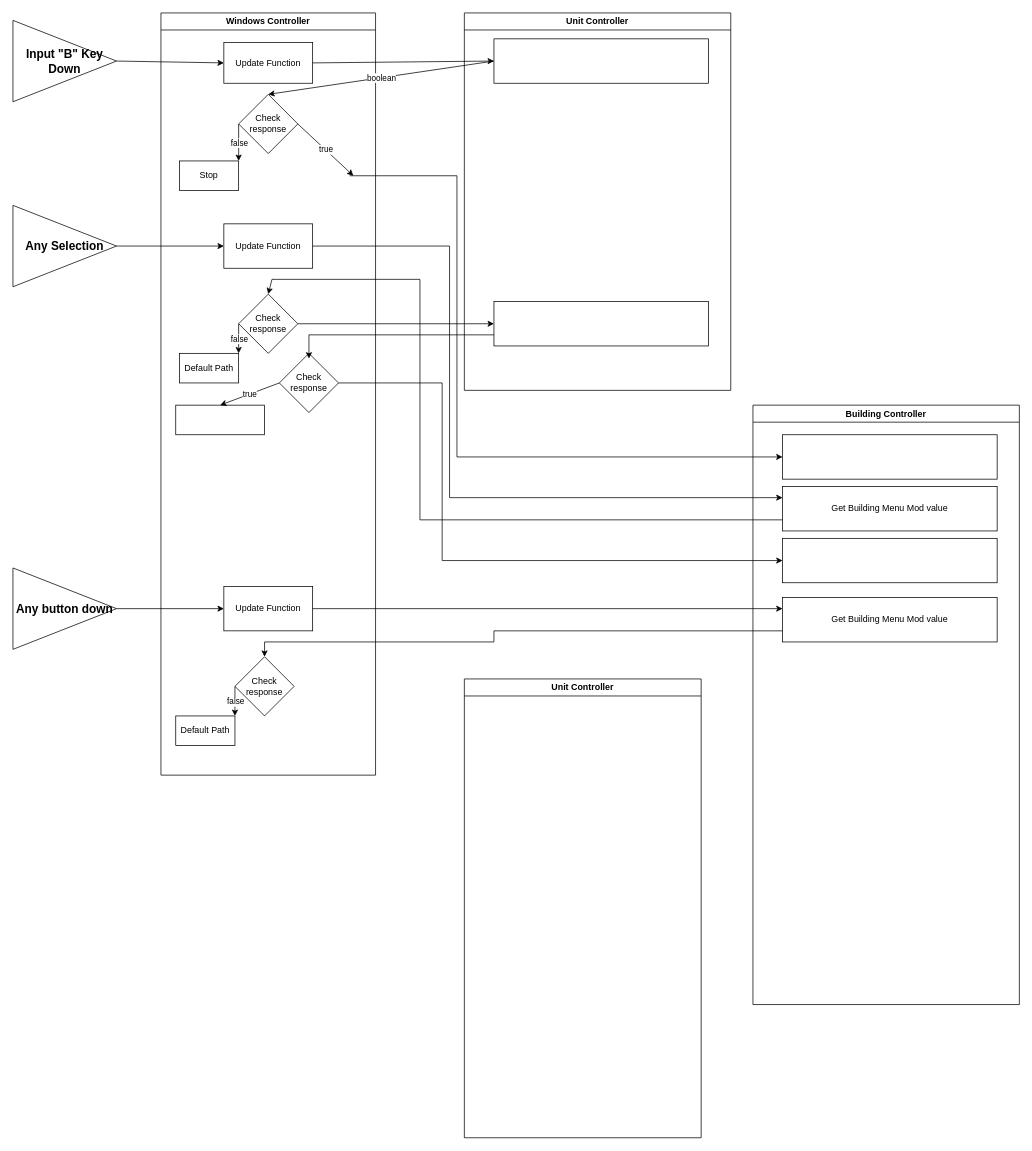
The diagram is 1032 pixels wide and 1151 high, and some of its shapes have lost their labels. The shapes that lost their labels are listed below. From the top down, each one's centre as x and y in pixels, then its label:
point 601,60: bool CheckBuilderSelected()
point 601,323: bool SelectAndCheckBuilderIsSame(...)
point 220,419: Nothing
point 889,456: Set Building Menu Mod = true
point 889,560: Set Building Menu Mod = false
